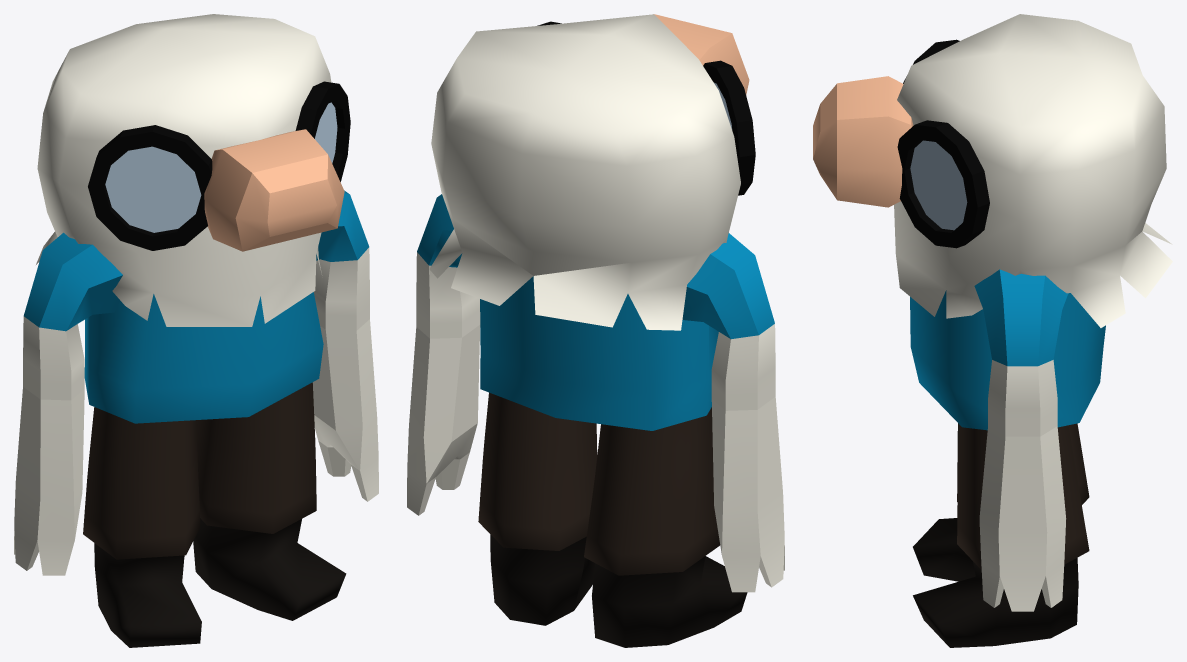
Rendered from Dave_rig_02.fbx.
3 renders of one model, left to right at view 1: azimuth 30°, elevation 25°; view 2: azimuth 150°, elevation 25°; view 3: azimuth 270°, elevation 25°, orthographic. The views are drawn at different scales.
Parts seen in each view (by area): view 1: dave_head, dave_legs, dave_arms, dave_shirt, both_nose_round, both_glasses_rim_r_, both_glasses_rim_l_; view 2: dave_head, dave_legs, dave_arms, dave_shirt, both_glasses_rim_r_, both_nose_round; view 3: dave_head, dave_arms, dave_legs, dave_shirt, both_nose_round, both_glasses_rim_l_.
Part boxes in pixels (x1=…): dave_head: x1=36, y1=14, x2=331, y2=326; dave_legs: x1=83, y1=382, x2=346, y2=647; dave_arms: x1=14, y1=190, x2=378, y2=575; dave_shirt: x1=84, y1=292, x2=323, y2=423; both_nose_round: x1=204, y1=129, x2=344, y2=251; both_glasses_rim_r_: x1=88, y1=125, x2=212, y2=250; both_glasses_rim_l_: x1=295, y1=81, x2=350, y2=181; dave_head: x1=429, y1=14, x2=740, y2=330; dave_legs: x1=478, y1=392, x2=747, y2=647; dave_arms: x1=407, y1=194, x2=784, y2=592; dave_shirt: x1=480, y1=276, x2=718, y2=430; both_glasses_rim_r_: x1=703, y1=60, x2=755, y2=195; both_nose_round: x1=653, y1=14, x2=749, y2=94; dave_head: x1=894, y1=14, x2=1172, y2=327; dave_arms: x1=974, y1=269, x2=1068, y2=611; dave_legs: x1=913, y1=423, x2=1089, y2=647; dave_shirt: x1=910, y1=290, x2=1105, y2=430; both_nose_round: x1=813, y1=76, x2=913, y2=207; both_glasses_rim_l_: x1=897, y1=120, x2=989, y2=248.
Size of the model in its own units: 0.3272 by 0.4902 by 0.2936.
